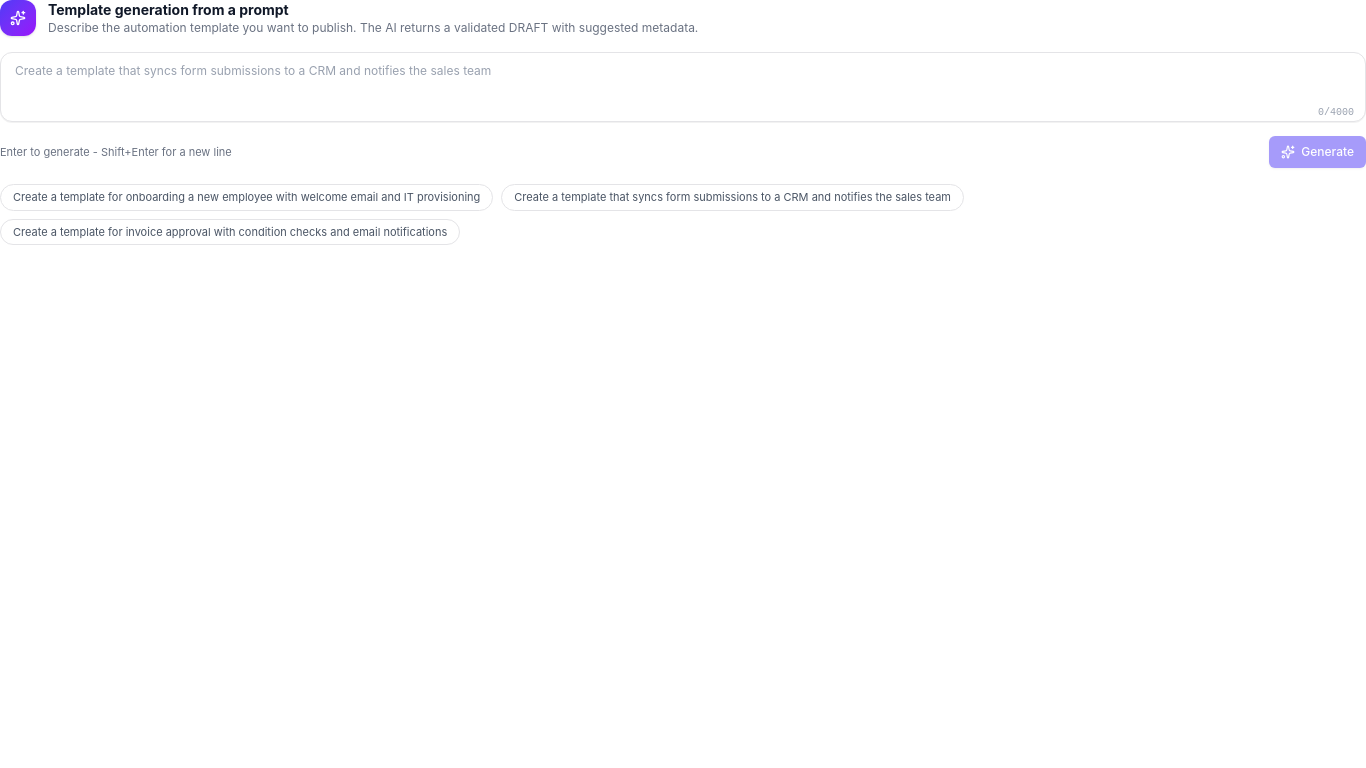
Scenario: Template Generator › generates a template and persists it with suggested metadata
Replace the text in the text box with test id "ai-prompt-input" with "Create an invoice approval template" at (683, 87), box left=0, top=52, right=1365, bottom=122
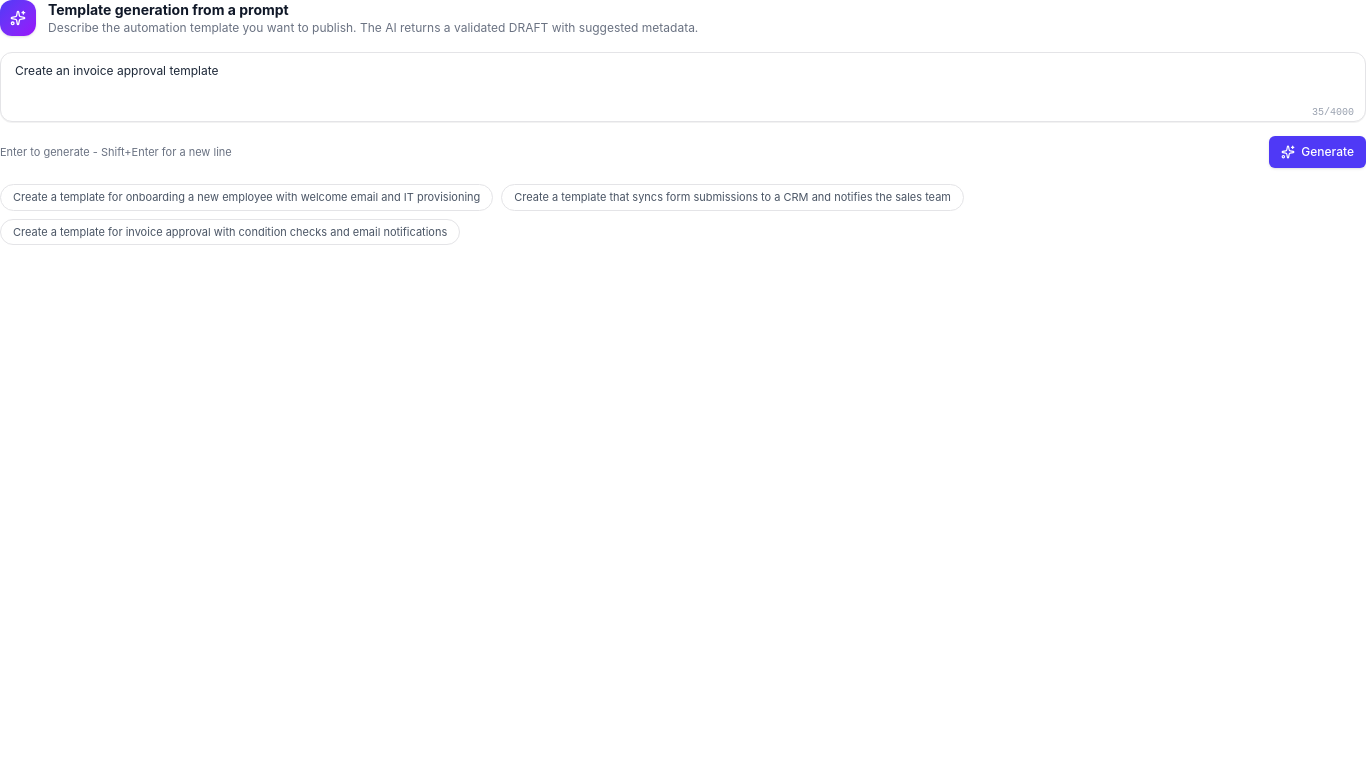
Click the button "Generate" at (1318, 152), box left=1269, top=136, right=1365, bottom=168
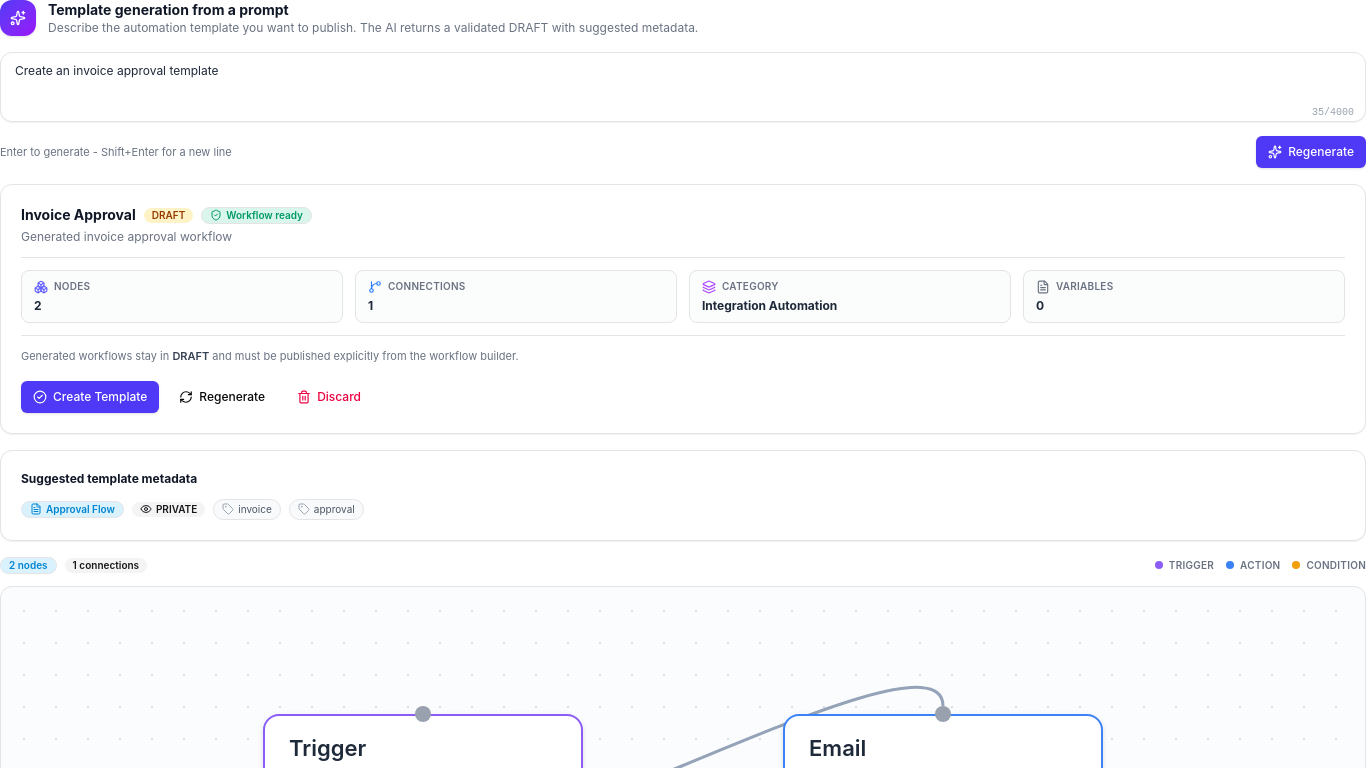
Result: the element with test id "template-metadata" is shown at left=0, top=450, right=1365, bottom=540
Result: the text "Approval Flow" is shown at left=21, top=500, right=124, bottom=518
Result: the text "invoice" is shown at left=213, top=498, right=281, bottom=520
Click the button "Create Template" at (90, 396), box left=21, top=380, right=159, bottom=412
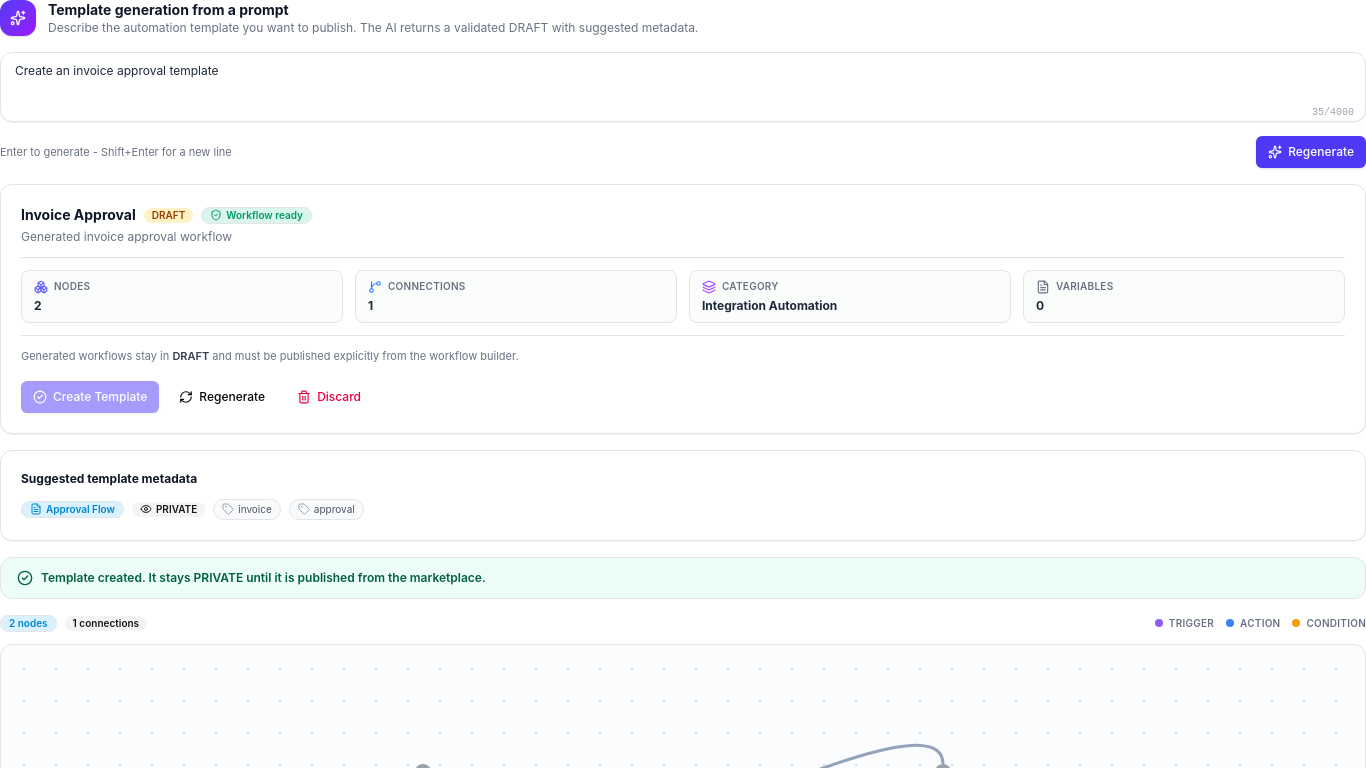
Result: the text "Template created" is shown at left=41, top=570, right=194, bottom=584
